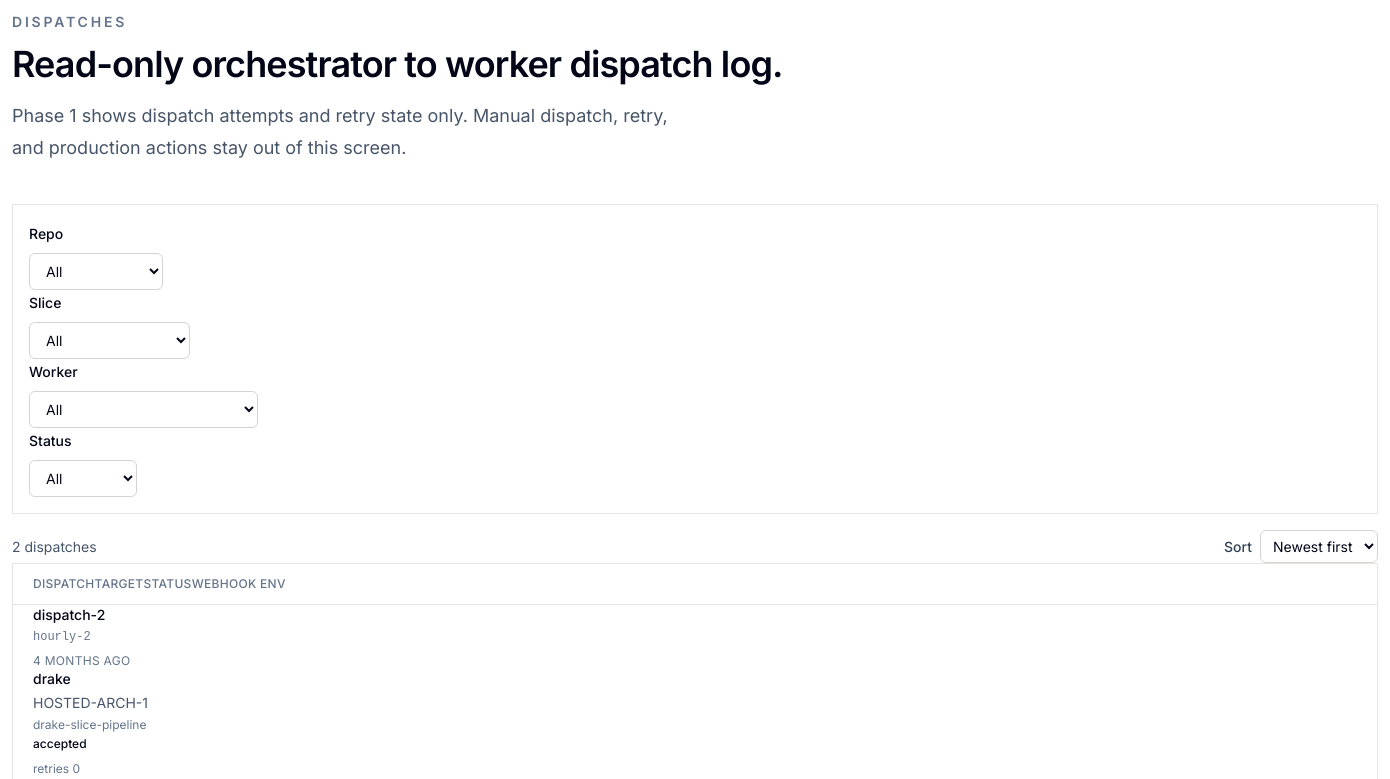
Dispatch log › filters through visible selects and shows filtered empty state
Select "drake" in the dropdown labelled "Repo" at (96, 272), box [29, 253, 163, 290]
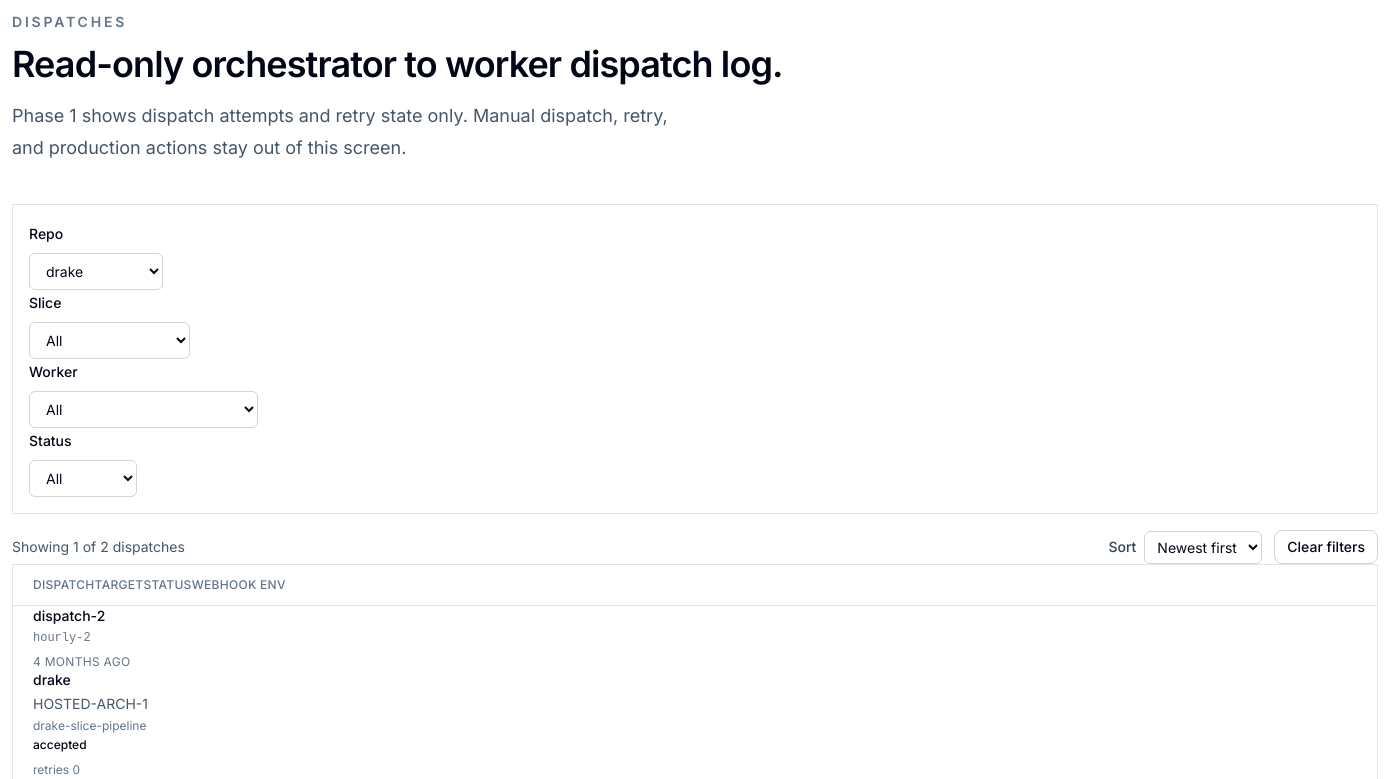
expect the link "dispatch-2" is shown: met, box [33, 607, 105, 624]
Select "failed" in the dropdown labelled "Status" at (83, 478), box [29, 460, 137, 497]
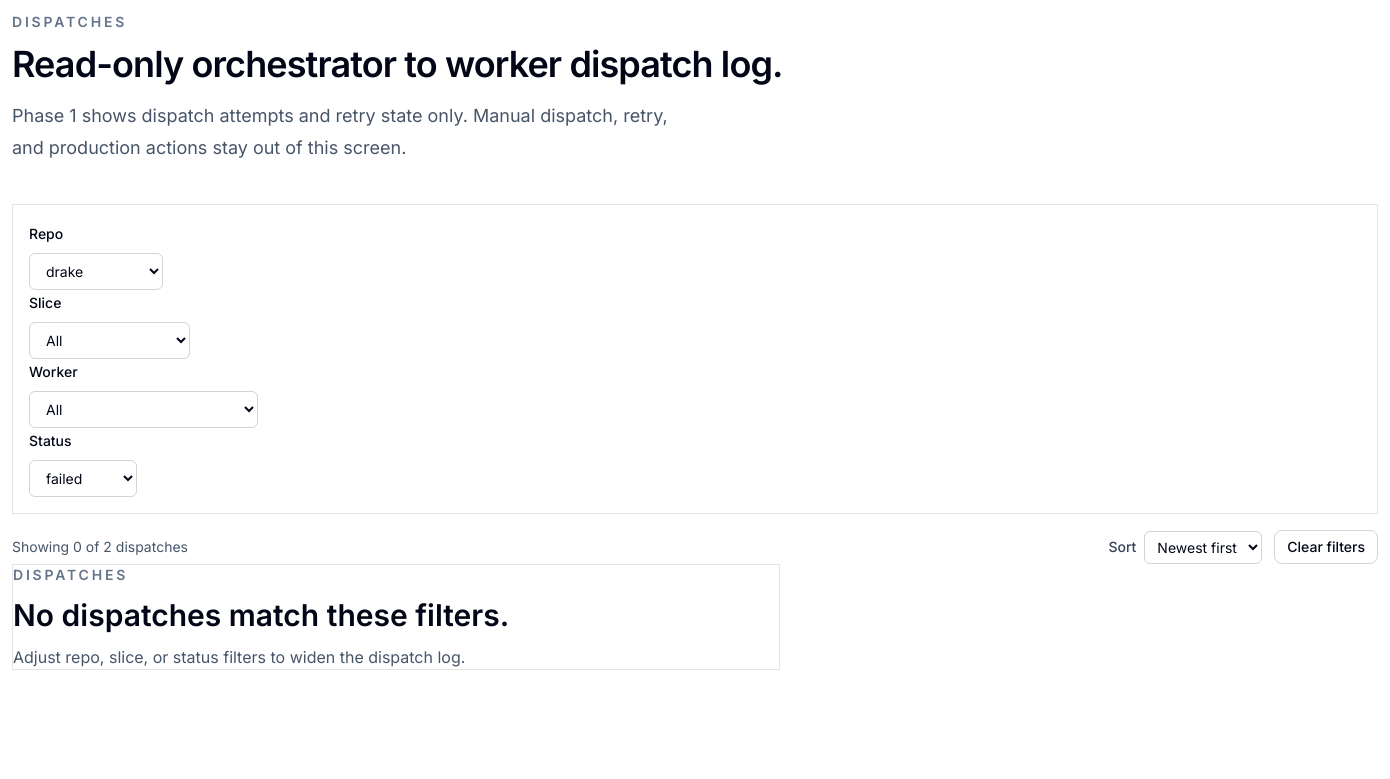
expect the heading "No dispatches match these filters." is shown: met, box [13, 597, 509, 633]
